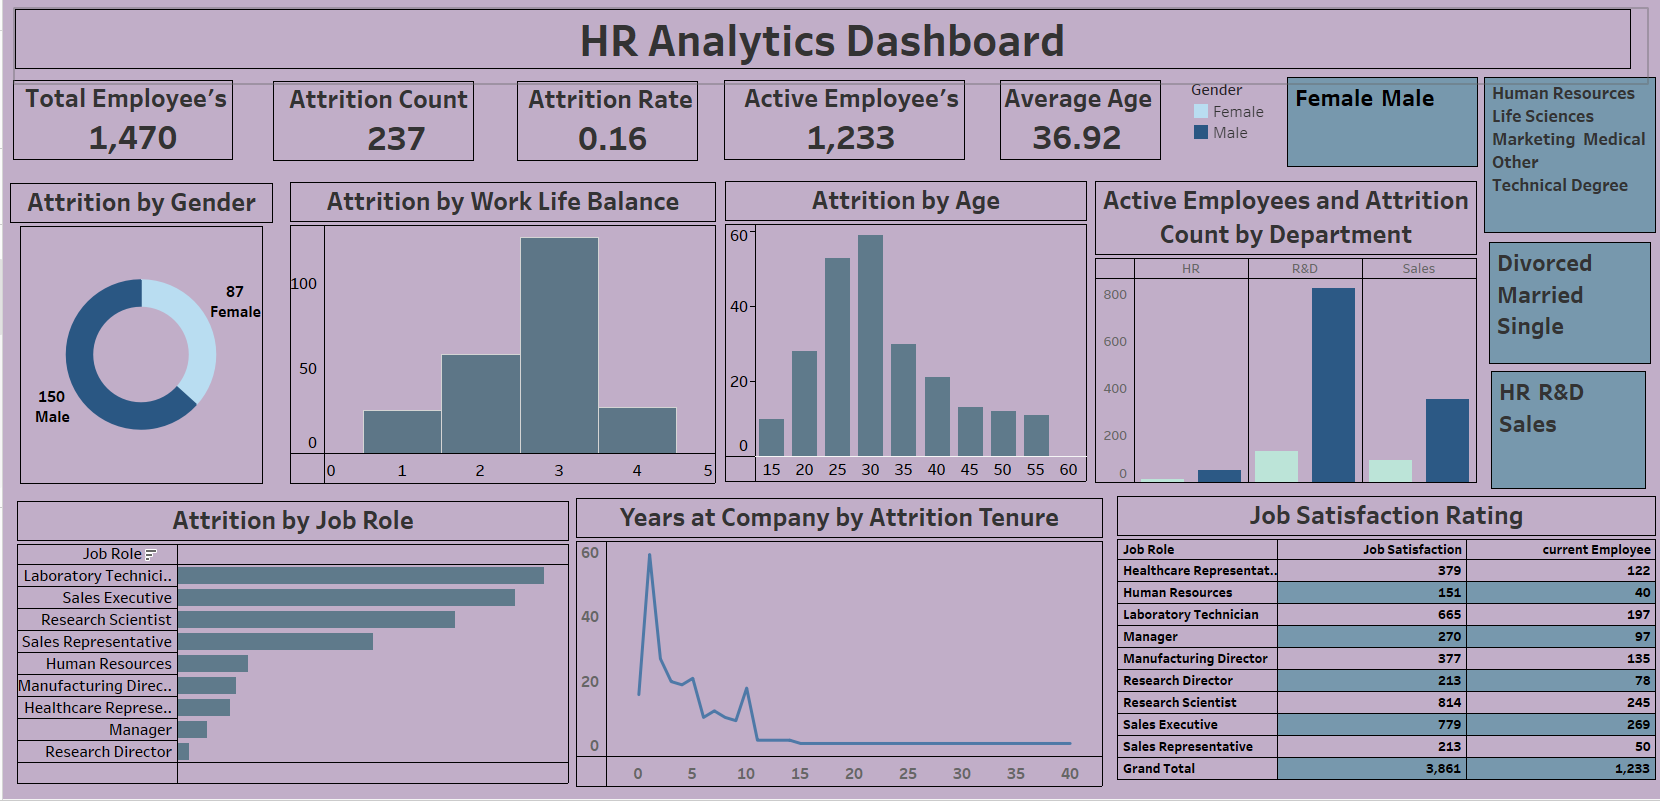

The dashboard page shown, as its layout file describes it:
{"tool":"tableau","page":{"name":"Dashboard 1","canvas":[1000,1000],"units":"permille","ordinal":0},"visuals":[{"type":"worksheet","title":"Sheet 6","mark":"Automatic","box":[7.2,13.7,984.9,92.4]},{"type":"worksheet","title":"Sheet 14","mark":"Automatic","box":[774.9,98.6,118.3,116.1]},{"type":"worksheet","title":"Sheet 16","mark":"Automatic","box":[893.8,98.6,106.2,208.5]},{"type":"legend","title":"Sheet 7","param":"[federated.15bf44q1aihir815nhbu50va6hea].[none:Gender:nk]","box":[717,101.1,69.4,106.1]},{"type":"worksheet","title":"Sheet 1","mark":"Automatic","box":[6,102.4,134,126.1]},{"type":"worksheet","title":"Sheet 4","mark":"Automatic","box":[435.1,102.4,150.3,113.6]},{"type":"worksheet","title":"Sheet 5","mark":"Automatic","box":[601.7,102.4,100.2,99.9]},{"type":"worksheet","title":"Sheet 2","mark":"Automatic","box":[163,103.6,126.7,104.9]},{"type":"worksheet","title":"Sheet 3","mark":"Automatic","box":[310.2,103.6,114.1,106.1]},{"type":"worksheet","title":"Sheet 12","mark":"Bar","rows":["Calculation_2100084856841166848"],"cols":["Age (bin)"],"box":[435.7,228.5,218.5,375.8]},{"type":"worksheet","title":"Sheet 11","mark":"Automatic","cols":["Department"],"box":[659,228.5,230.5,377]},{"type":"worksheet","title":"Sheet 10","mark":"Bar","rows":["Calculation_605734205354614786"],"cols":["Work Life Balance"],"box":[173.2,229.7,257.1,377]},{"type":"worksheet","title":"Sheet 7","mark":"Pie","rows":["0","0"],"box":[4.2,231,158.7,375.8]},{"type":"worksheet","title":"Sheet 17","mark":"Automatic","box":[896.8,304.6,99,163.6]},{"type":"worksheet","title":"Sheet 15","mark":"Automatic","box":[898,465.7,97.2,147.3]},{"type":"worksheet","title":"Sheet 20","mark":"Line","rows":["Calculation_605734205342420992"],"cols":["Years At Company"],"box":[345.8,624.2,318,360.8]},{"type":"worksheet","title":"Sheet 18","mark":"Automatic","rows":["Job Role"],"cols":["Calculation_664281000203976709"],"box":[8.4,628,333.1,370.8]}]}

Visuals, with their boxes on the dashboard's canvas, which has no fixed pixel size, in thousandths of its width and height (x1, y1, x2, y2). These are canvas units, not pixel positions in the 1660x801 screenshot, which may show the page scaled, cropped or inside an application window:
"Sheet 6" worksheet: {"left": 7, "top": 14, "right": 992, "bottom": 106}
"Sheet 14" worksheet: {"left": 775, "top": 99, "right": 893, "bottom": 215}
"Sheet 16" worksheet: {"left": 894, "top": 99, "right": 1000, "bottom": 307}
"Sheet 7" legend: {"left": 717, "top": 101, "right": 786, "bottom": 207}
"Sheet 1" worksheet: {"left": 6, "top": 102, "right": 140, "bottom": 228}
"Sheet 4" worksheet: {"left": 435, "top": 102, "right": 585, "bottom": 216}
"Sheet 5" worksheet: {"left": 602, "top": 102, "right": 702, "bottom": 202}
"Sheet 2" worksheet: {"left": 163, "top": 104, "right": 290, "bottom": 208}
"Sheet 3" worksheet: {"left": 310, "top": 104, "right": 424, "bottom": 210}
"Sheet 12" worksheet (Bar marks): {"left": 436, "top": 228, "right": 654, "bottom": 604}
"Sheet 11" worksheet: {"left": 659, "top": 228, "right": 890, "bottom": 606}
"Sheet 10" worksheet (Bar marks): {"left": 173, "top": 230, "right": 430, "bottom": 607}
"Sheet 7" worksheet (Pie marks): {"left": 4, "top": 231, "right": 163, "bottom": 607}
"Sheet 17" worksheet: {"left": 897, "top": 305, "right": 996, "bottom": 468}
"Sheet 15" worksheet: {"left": 898, "top": 466, "right": 995, "bottom": 613}
"Sheet 20" worksheet (Line marks): {"left": 346, "top": 624, "right": 664, "bottom": 985}
"Sheet 18" worksheet: {"left": 8, "top": 628, "right": 342, "bottom": 999}
